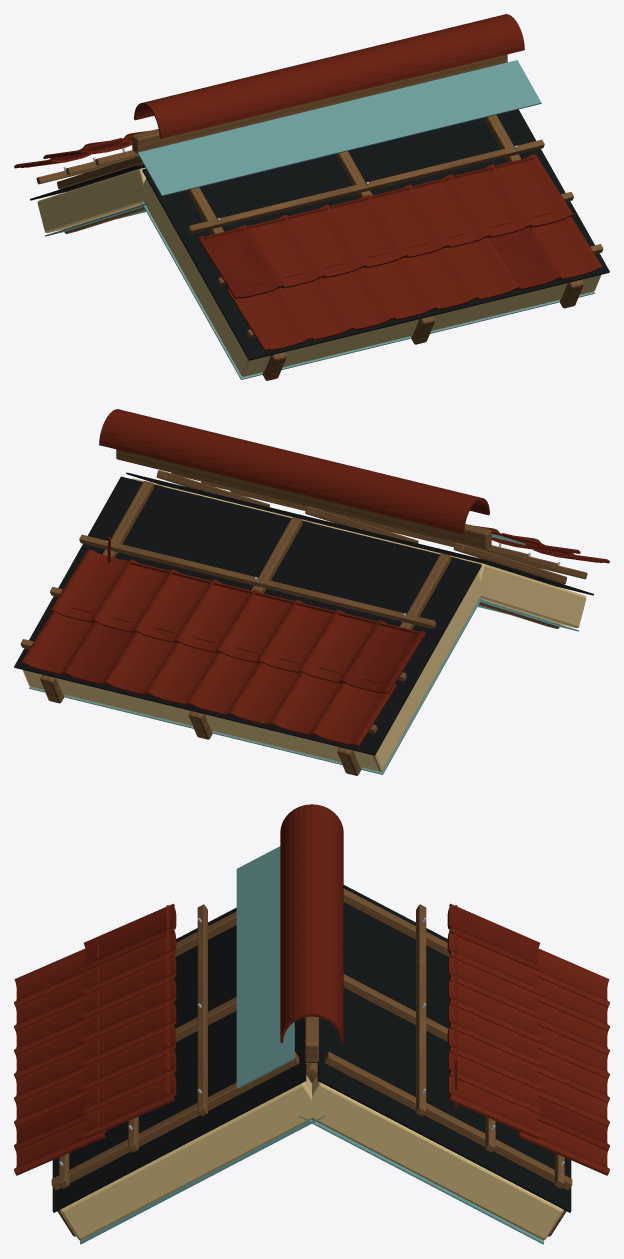
File: modell.glb
3 views of the same model, one above another, from view 1: azimuth 30°, elevation 25°; view 2: azimuth 150°, elevation 25°; view 3: azimuth 270°, elevation 25° (orthographic). The views are drawn at different scales.
Parts seen in each view (by area): view 1: s05-deckziegel_deckung, s05-zusatzebene_zusatzebene, s05-anschluss_zusatzebene, s05-firstziegel_deckung, s05-daemmung_daemmung, s05-lattung_lattung, s05-deckziegel_deckung.001, s05-firstlatte_lattung, s05-luftdichtheit_luftdichtheit, s05-sparren_tragwerk; view 2: s05-deckziegel_deckung, s05-zusatzebene_zusatzebene, s05-firstziegel_deckung, s05-daemmung_daemmung, s05-lattung_lattung, s05-deckziegel_deckung.001, s05-firstlatte_lattung, s05-luftdichtheit_luftdichtheit, s05-sparren_tragwerk; view 3: s05-deckziegel_deckung, s05-zusatzebene_zusatzebene, s05-daemmung_daemmung, s05-lattung_lattung, s05-firstziegel_deckung, s05-anschluss_zusatzebene, s05-deckziegel_deckung.001, s05-luftdichtheit_luftdichtheit, s05-firstlatte_lattung.
Part boxes in pixels (box(x1,y1,x2,y2)): s05-deckziegel_deckung: box(14, 130, 603, 351); s05-zusatzebene_zusatzebene: box(30, 109, 609, 360); s05-anschluss_zusatzebene: box(137, 60, 541, 196); s05-firstziegel_deckung: box(134, 14, 524, 138); s05-daemmung_daemmung: box(37, 167, 601, 376); s05-lattung_lattung: box(36, 115, 603, 338); s05-deckziegel_deckung.001: box(43, 138, 561, 299); s05-firstlatte_lattung: box(132, 54, 507, 153); s05-luftdichtheit_luftdichtheit: box(45, 195, 594, 379); s05-sparren_tragwerk: box(64, 207, 583, 380); s05-deckziegel_deckung: box(20, 525, 609, 746); s05-zusatzebene_zusatzebene: box(14, 472, 593, 755); s05-firstziegel_deckung: box(99, 409, 489, 533); s05-daemmung_daemmung: box(22, 478, 586, 771); s05-lattung_lattung: box(20, 470, 587, 733); s05-deckziegel_deckung.001: box(62, 533, 580, 694); s05-firstlatte_lattung: box(116, 449, 491, 549); s05-luftdichtheit_luftdichtheit: box(29, 593, 578, 774); s05-sparren_tragwerk: box(40, 484, 559, 775); s05-deckziegel_deckung: box(14, 905, 609, 1175); s05-zusatzebene_zusatzebene: box(52, 885, 571, 1212); s05-daemmung_daemmung: box(60, 1063, 563, 1240); s05-lattung_lattung: box(51, 888, 572, 1190); s05-firstziegel_deckung: box(280, 804, 343, 1042); s05-anschluss_zusatzebene: box(236, 846, 294, 1088); s05-deckziegel_deckung.001: box(14, 903, 609, 1150); s05-luftdichtheit_luftdichtheit: box(80, 1116, 543, 1244); s05-firstlatte_lattung: box(305, 1016, 318, 1062).
Size of the model in its own units: 2.21 by 1.15 by 2.53.
7 materials, 3 textured.
